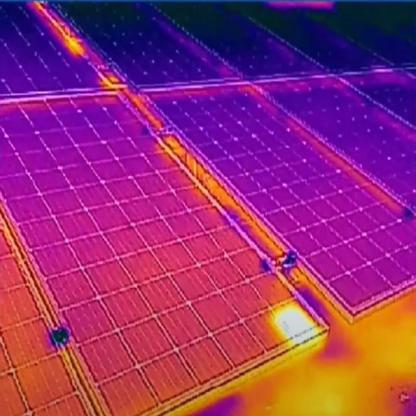anomaly: (268, 298, 326, 353)
